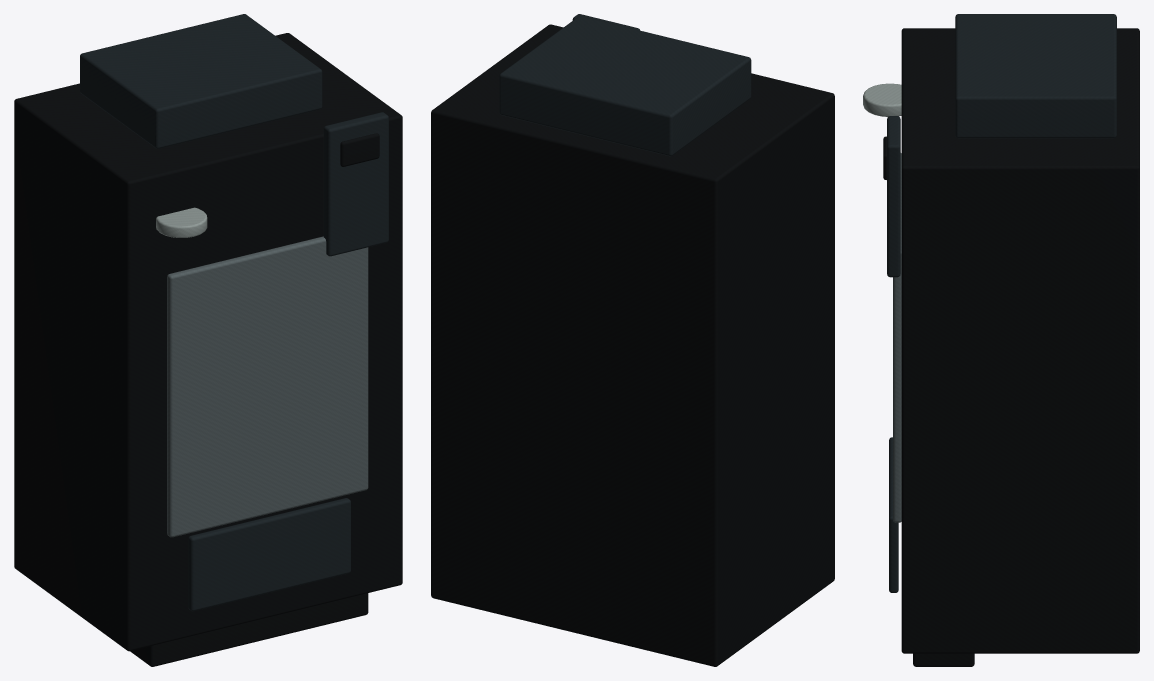
The model's file is MobileAirScrubber.fbx.
The picture shows the model from 3 angles, left to right: view 1: azimuth 30°, elevation 25°; view 2: azimuth 150°, elevation 25°; view 3: azimuth 270°, elevation 25°; orthographic projection. The views are drawn at different scales.
Parts seen in each view (by area): view 1: MobileAirScrubber_Mesh; view 2: MobileAirScrubber_Mesh; view 3: MobileAirScrubber_Mesh.
Part boxes in pixels (x1=…): MobileAirScrubber_Mesh: x1=14, y1=14, x2=402, y2=666; MobileAirScrubber_Mesh: x1=431, y1=14, x2=834, y2=666; MobileAirScrubber_Mesh: x1=863, y1=14, x2=1139, y2=666.
Bounding box in the file's own units: 86 × 160 × 72.
